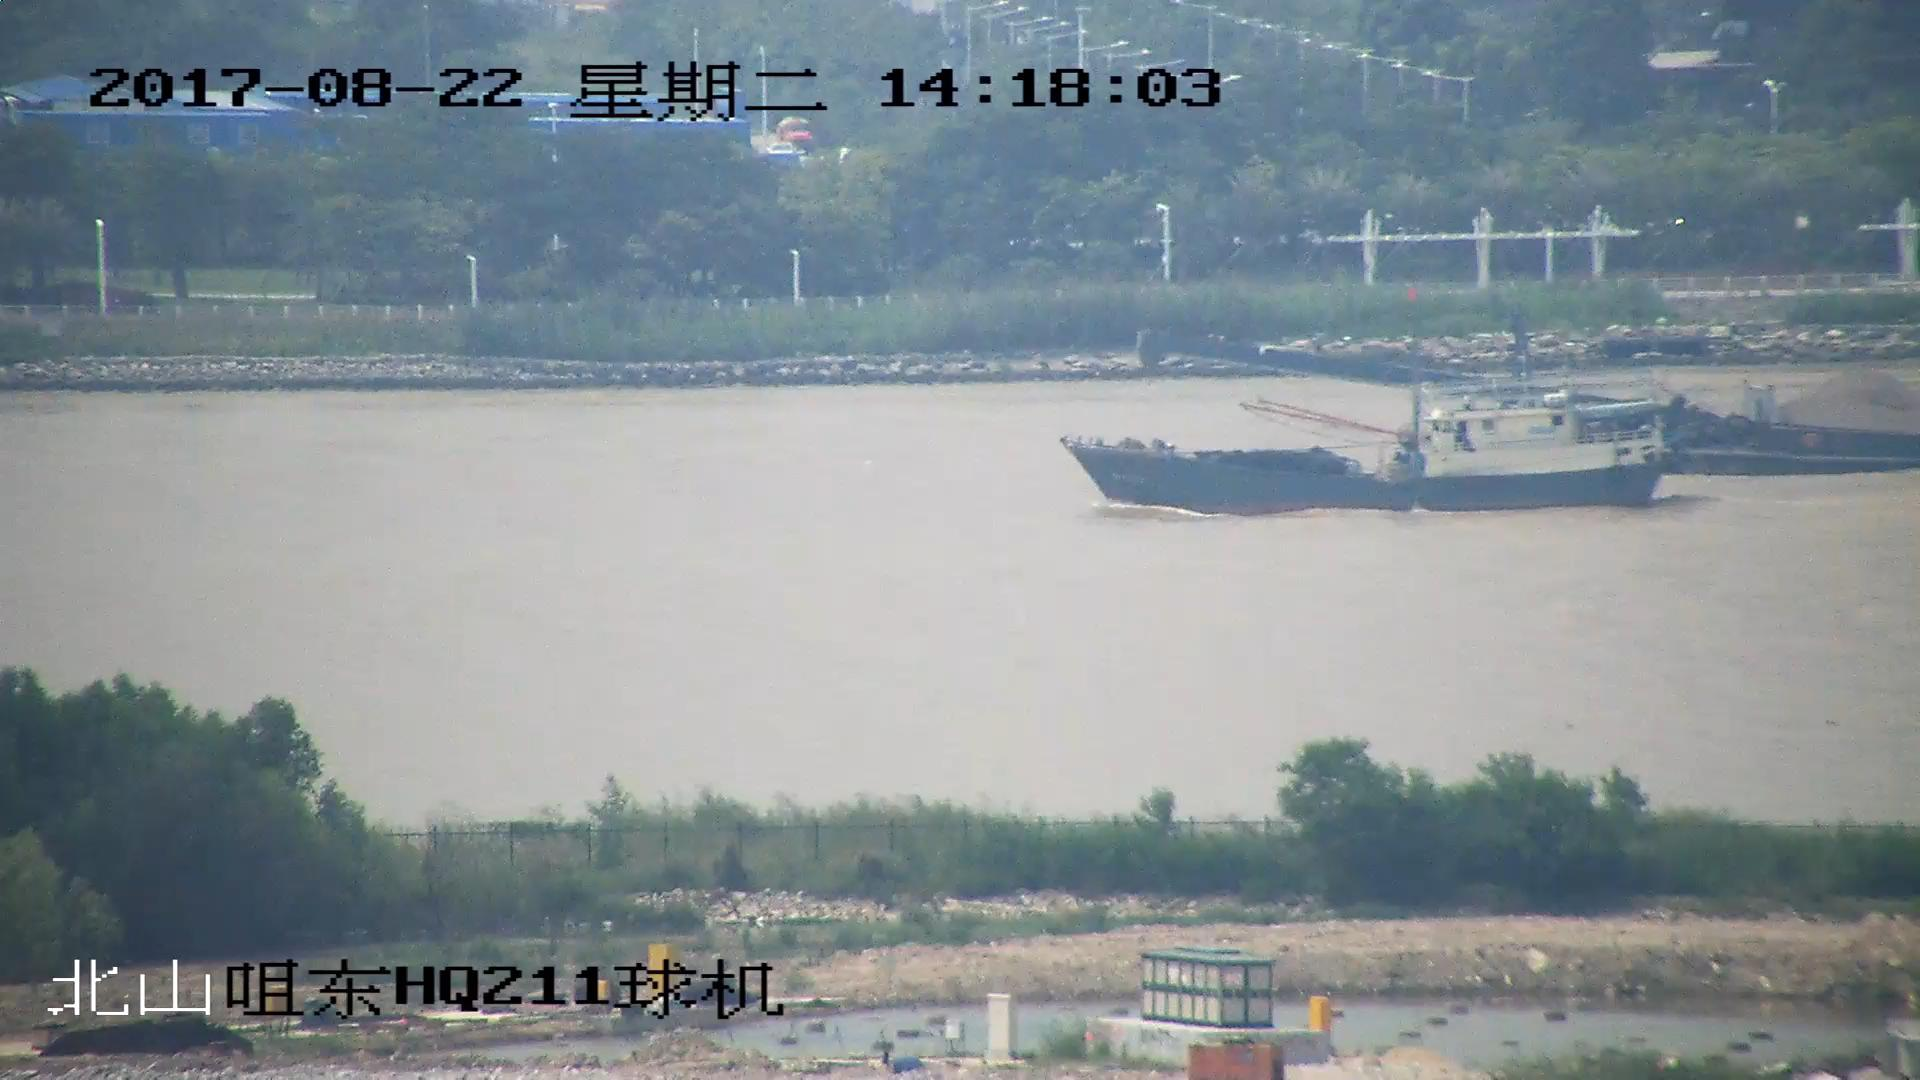Ship: (1064, 291, 1662, 520), (1137, 330, 1920, 480)
